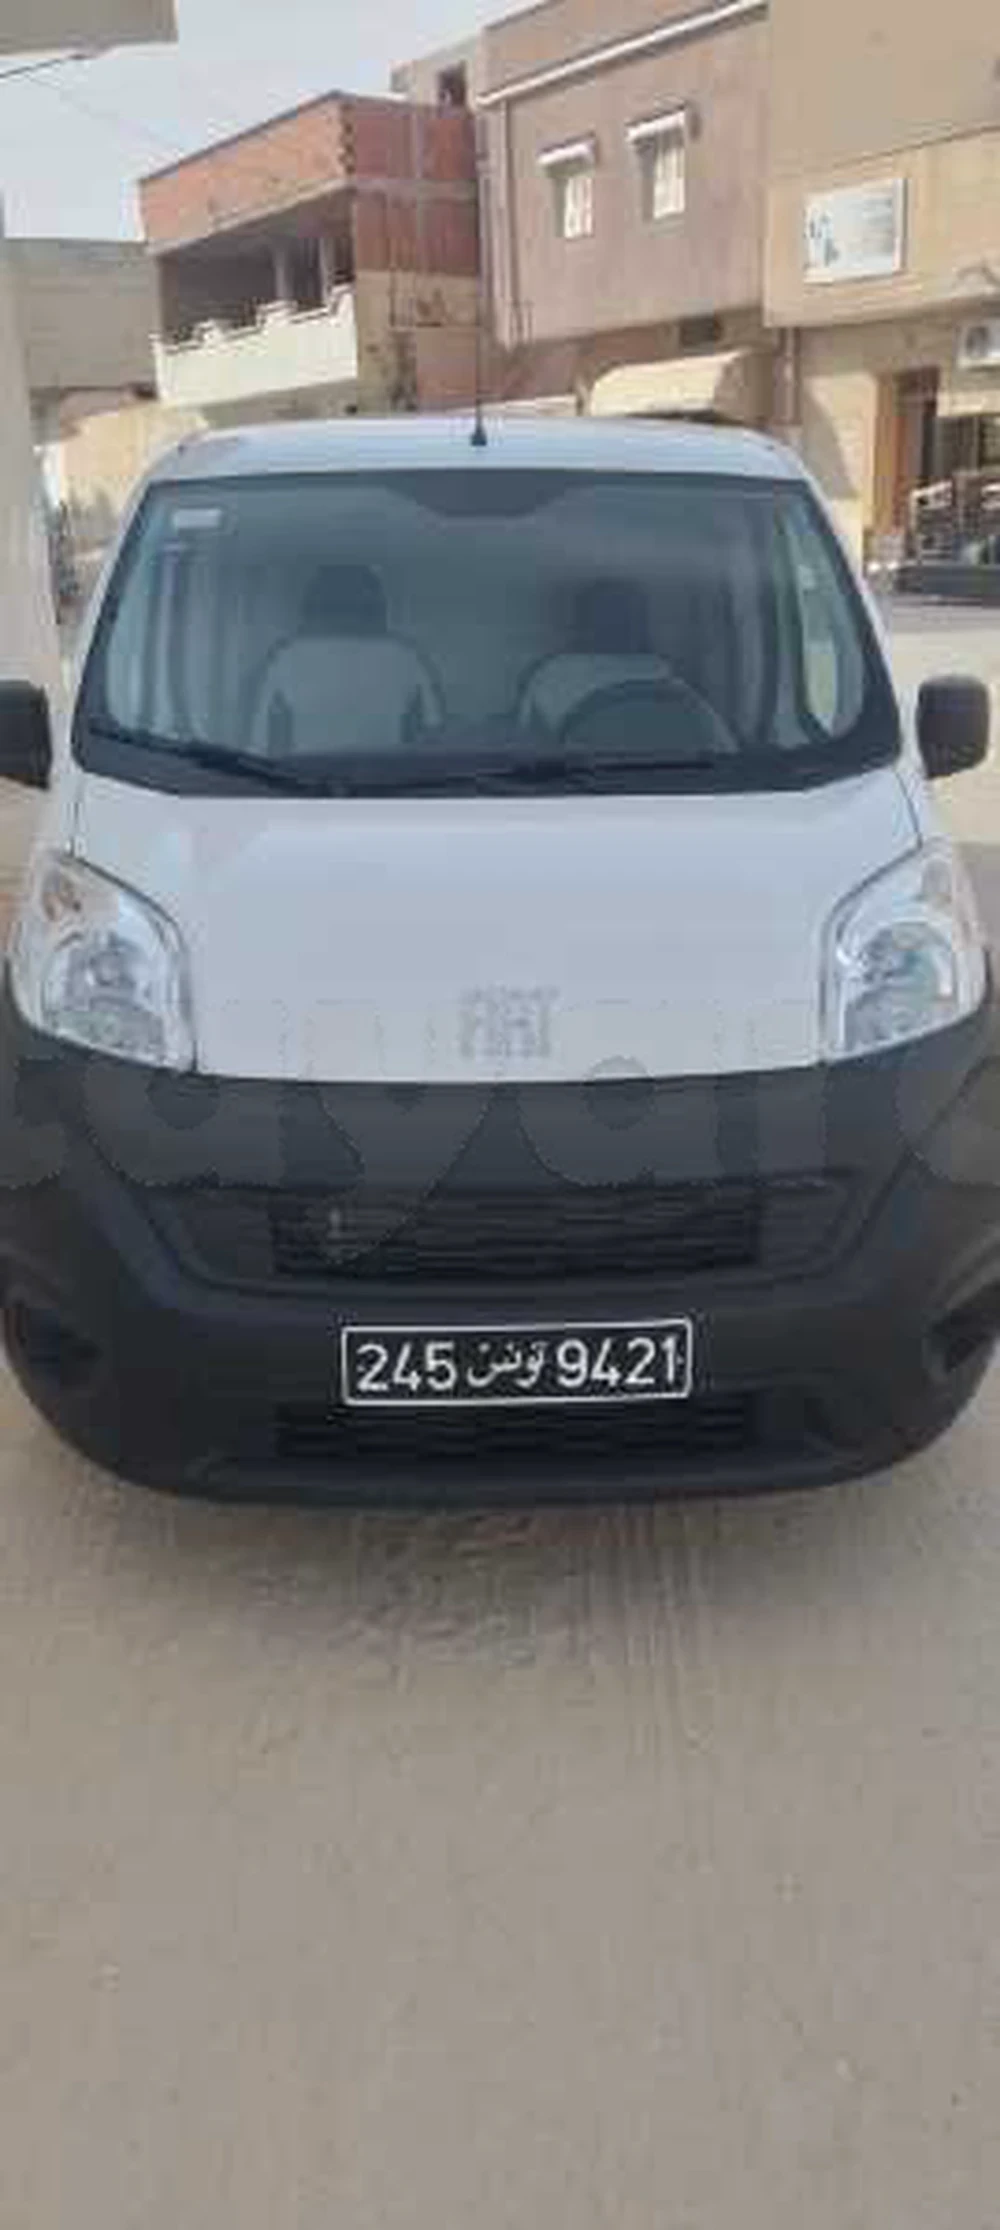fiat: (17, 434, 993, 1562)
